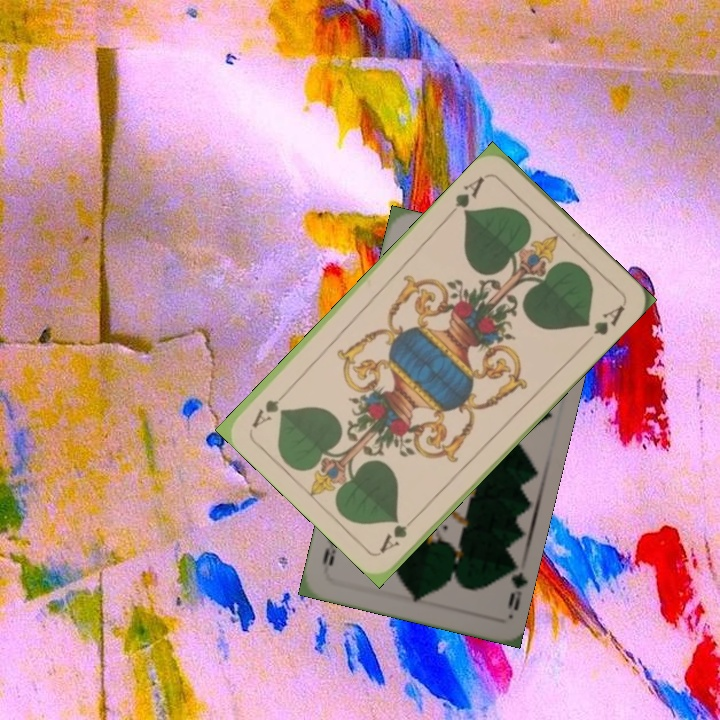G9: (501, 558, 528, 613)
GA: (376, 508, 423, 555), (445, 172, 491, 218)
